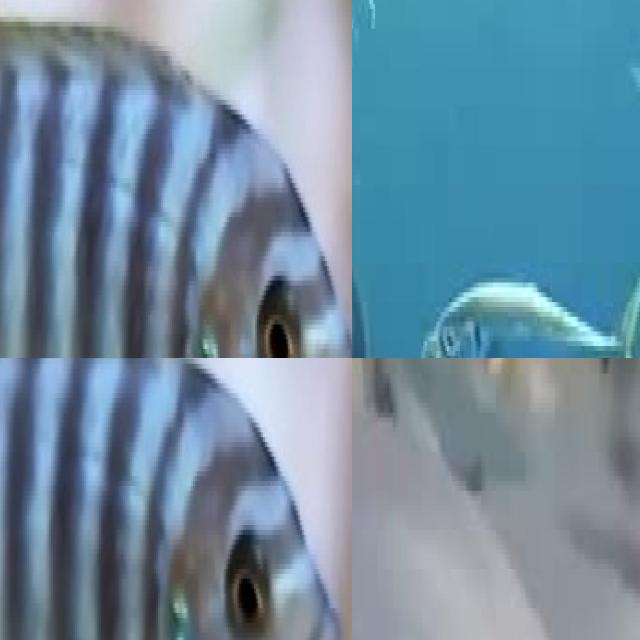fish: (0, 0, 352, 358), (0, 358, 351, 640)
